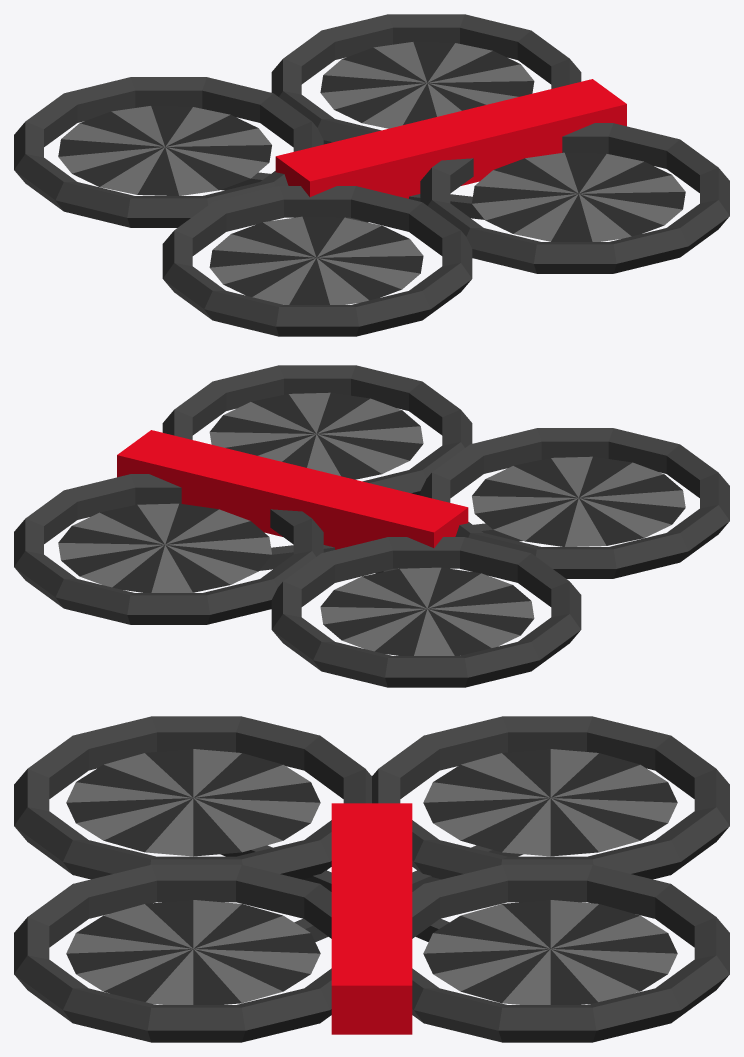
File: quadrotor_3.dae
The picture shows the model from 3 angles, top to bottom: view 1: azimuth 30°, elevation 25°; view 2: azimuth 150°, elevation 25°; view 3: azimuth 270°, elevation 25°; orthographic projection. The views are drawn at different scales.
Parts seen in each view (by area): view 1: MainBody_001; view 2: MainBody_001; view 3: MainBody_001.
Boxes of the visible parts, x1,y1,x2,y2 form: MainBody_001: [14, 14, 729, 336]; MainBody_001: [14, 365, 729, 687]; MainBody_001: [14, 716, 729, 1042].
Bounding box in the file's own units: 0.5305 × 0.5305 × 0.0521.
